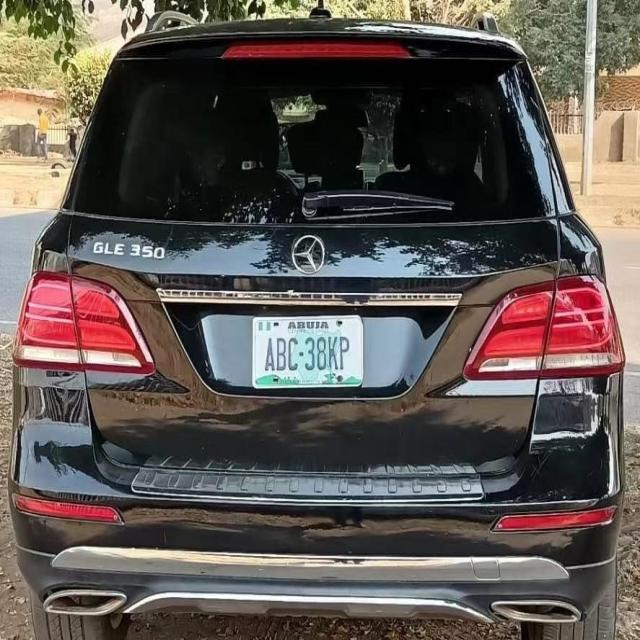Nigerian License Plate - vdataset benjamin-daria: (252, 310, 366, 398)
